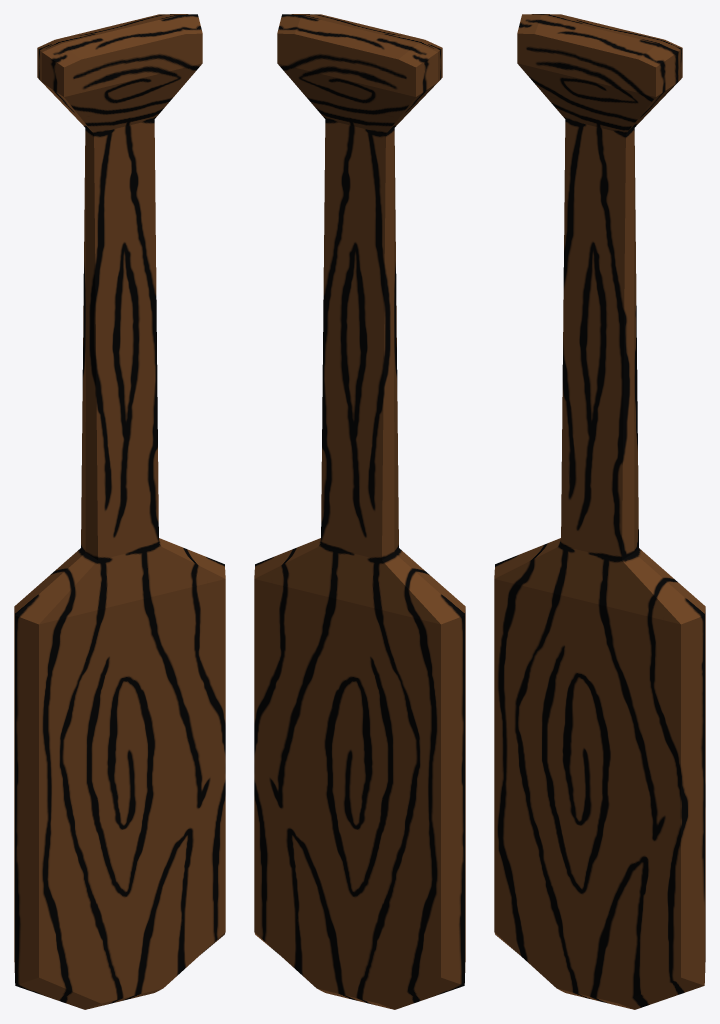
File: Paddle_D.FBX
The picture shows the model from 3 angles, left to right: view 1: azimuth 30°, elevation 25°; view 2: azimuth 150°, elevation 25°; view 3: azimuth 330°, elevation 25°; orthographic projection.
Parts seen in each view (by area): view 1: Paddle_D; view 2: Paddle_D; view 3: Paddle_D.
Part boxes in pixels (x1=…): Paddle_D: x1=14, y1=14, x2=225, y2=1009; Paddle_D: x1=254, y1=14, x2=465, y2=1009; Paddle_D: x1=494, y1=14, x2=705, y2=1009.
Bounding box in the file's own units: 188 × 41.82 × 835.
1 material, 1 textured.
